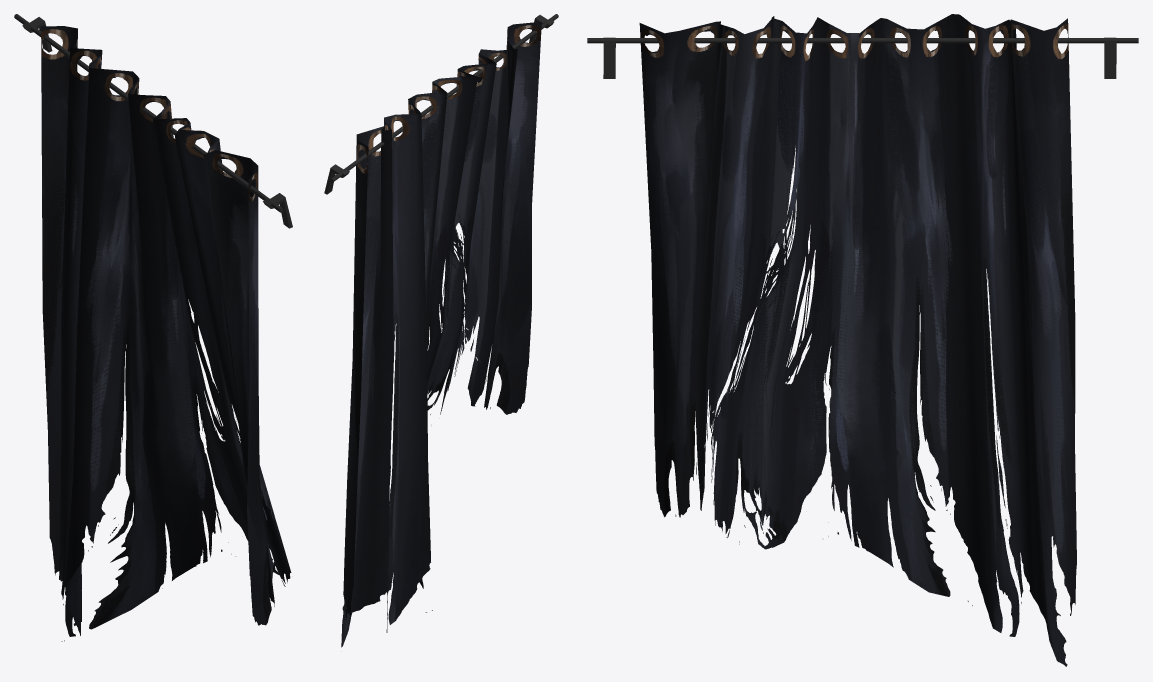
The model's file is curtains with texture.fbx.
3 views of the same model, side by side, from view 1: azimuth 30°, elevation 25°; view 2: azimuth 150°, elevation 25°; view 3: azimuth 270°, elevation 25° (orthographic). The views are drawn at different scales.
Visible parts, largest first — view 1: curtain, POLE; view 2: curtain, POLE; view 3: curtain, POLE.
Boxes of the visible parts, <box> form: curtain: <box>41,26,291,641</box>; POLE: <box>14,14,292,228</box>; curtain: <box>341,21,541,647</box>; POLE: <box>324,14,558,194</box>; curtain: <box>639,14,1076,666</box>; POLE: <box>587,37,1138,78</box>.
Size of the model in its own units: 19.3 by 93.71 by 73.11.
2 materials, 1 textured.
